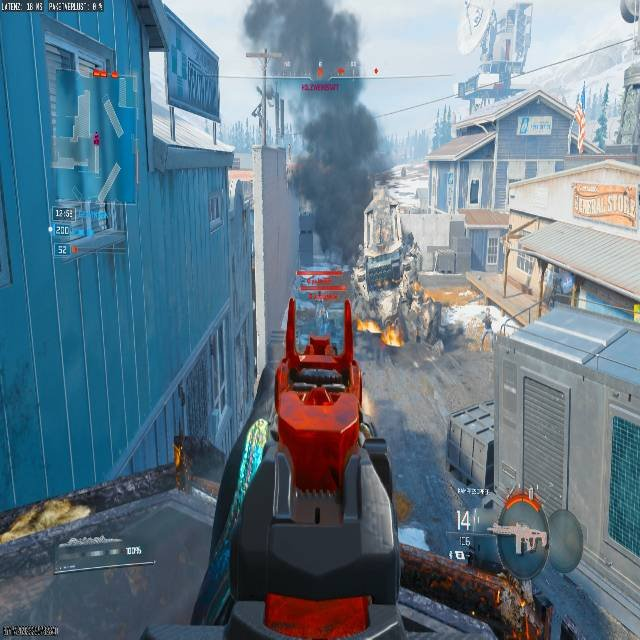player: (480, 308, 495, 350)
